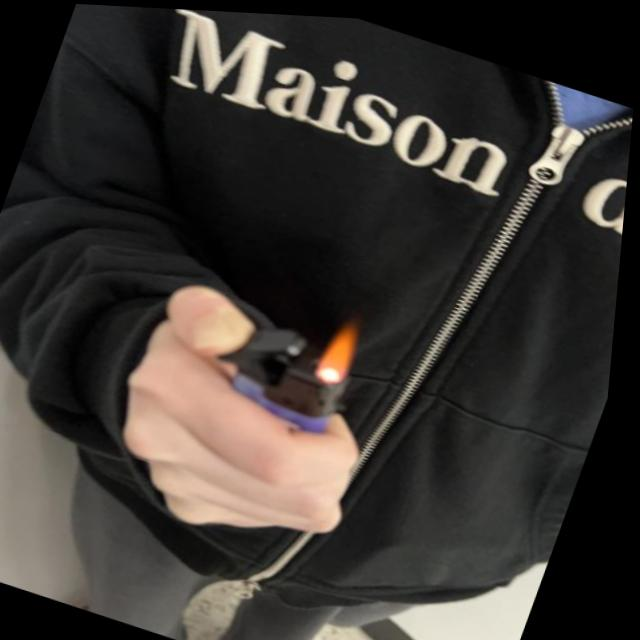Fire: (316, 304, 374, 384)
